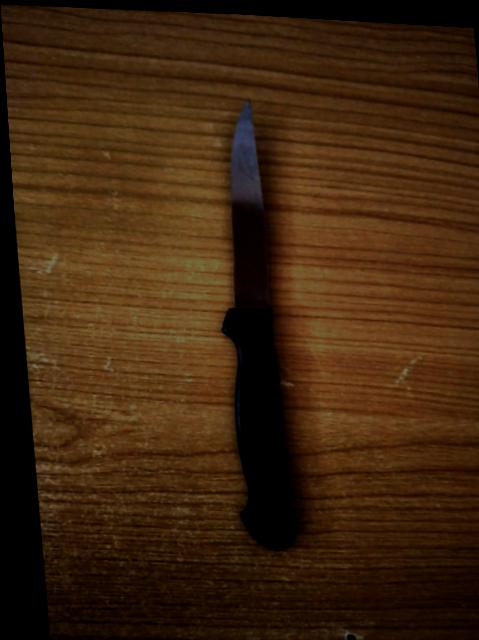Knife: (222, 101, 293, 549)
